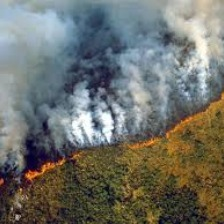incendio: (128, 98, 219, 157), (2, 144, 100, 191), (121, 134, 175, 155)
